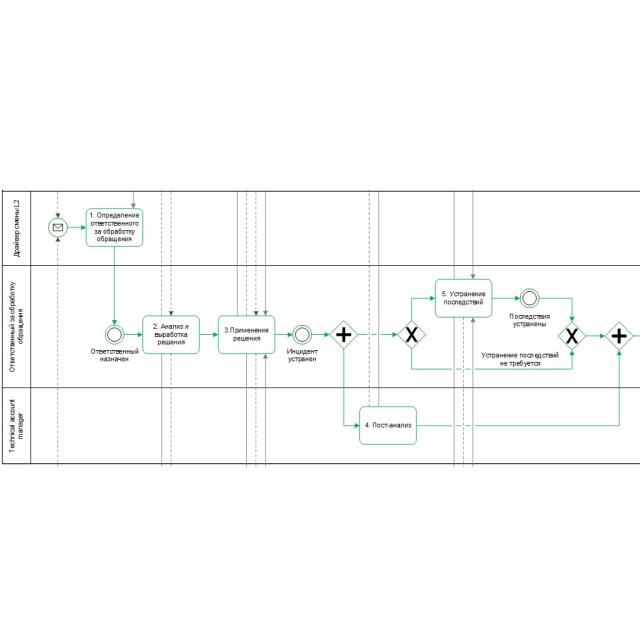arrow: (417, 350, 622, 428), (409, 348, 575, 371), (340, 348, 360, 429), (540, 294, 575, 322), (409, 294, 435, 320), (111, 247, 118, 325), (358, 330, 398, 339), (492, 294, 520, 302), (586, 332, 604, 341), (67, 224, 86, 232), (124, 330, 143, 338), (200, 331, 218, 338), (312, 331, 329, 338), (276, 332, 292, 338)
circle: (520, 289, 539, 308), (49, 218, 68, 237), (105, 325, 124, 344), (293, 325, 311, 344)
diamond: (607, 322, 633, 349), (398, 321, 424, 348), (559, 323, 585, 349), (332, 322, 357, 347)
rectangle: (86, 208, 143, 247), (435, 279, 492, 317), (218, 315, 275, 353), (359, 407, 417, 444), (143, 315, 199, 353)
text_region: (480, 351, 560, 367), (90, 347, 140, 364), (509, 312, 550, 328), (285, 347, 319, 364)
